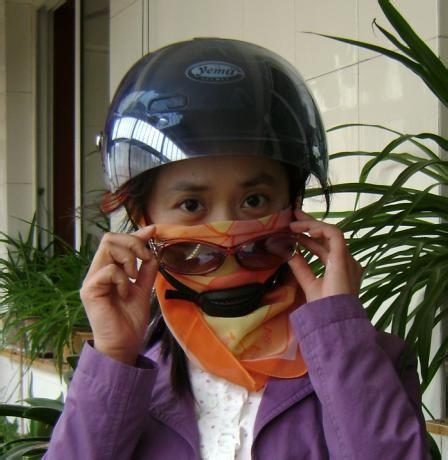OK: (151, 158, 302, 309)
